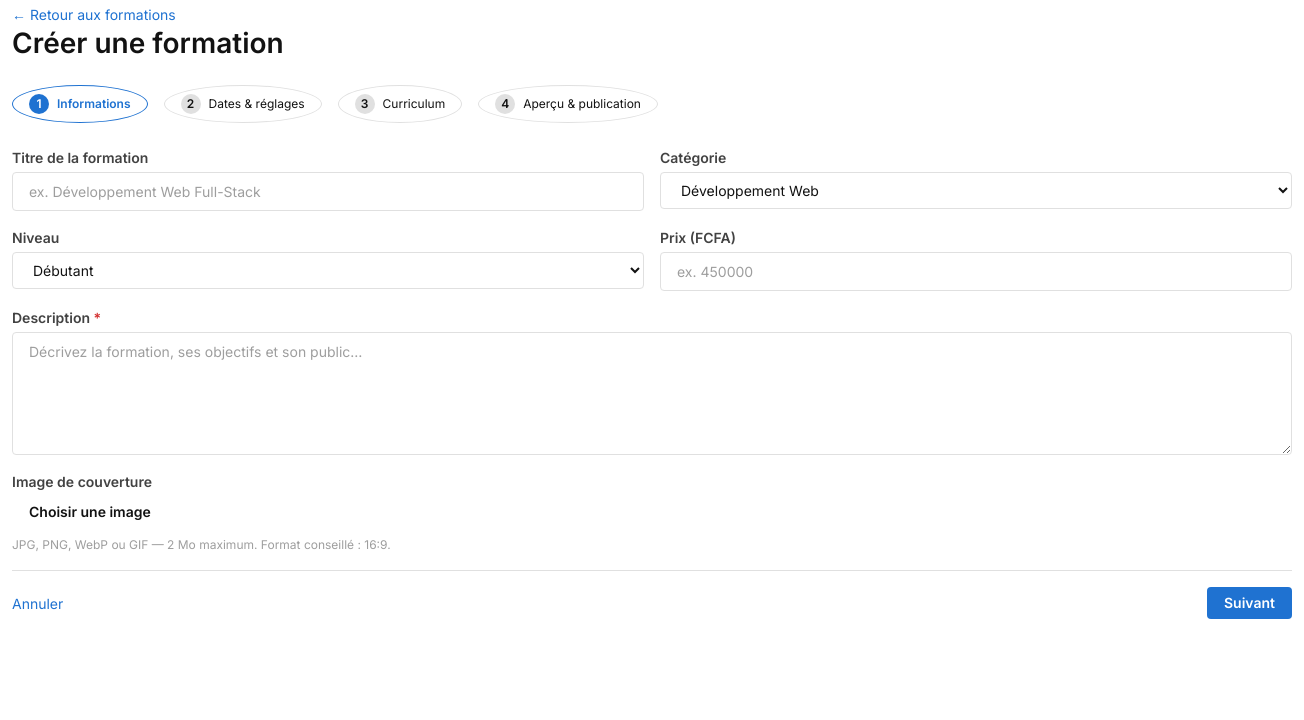
FormationFormComponent › should block step 1 and show required errors when fields are empty
Click the button "Suivant": (1250, 603) [1207,587,1292,619]
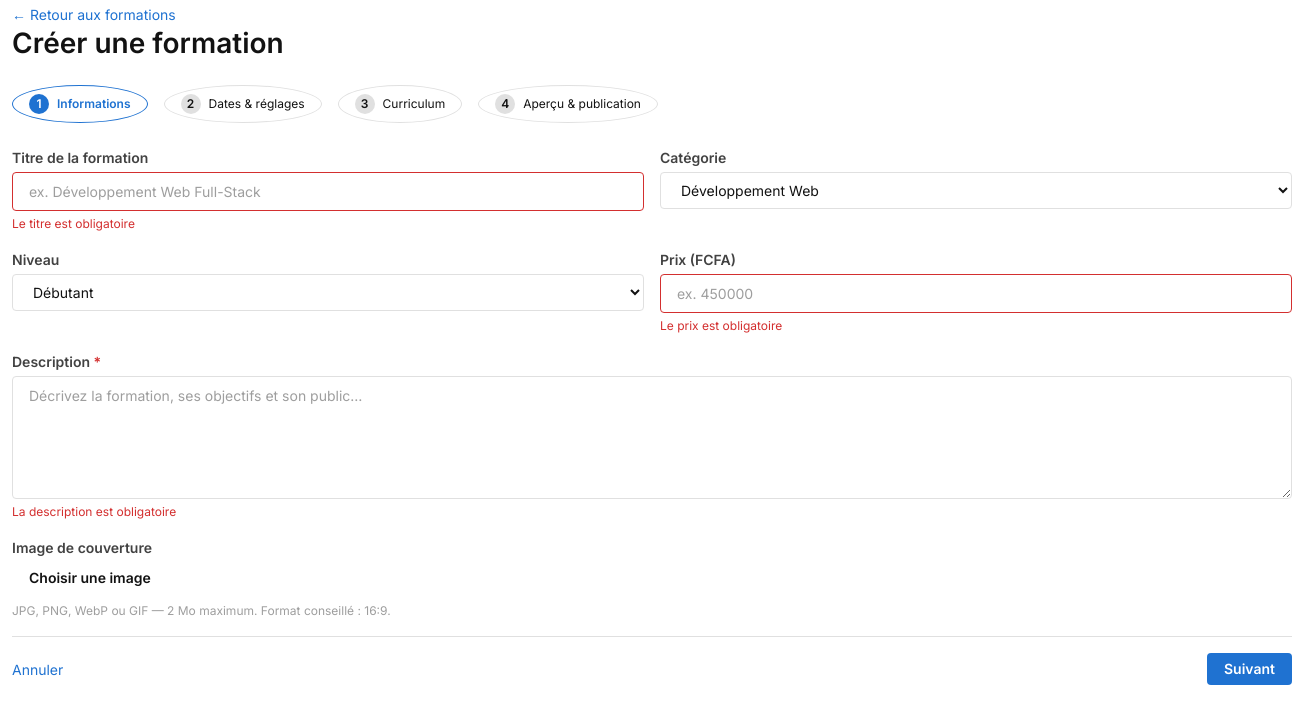
Result: the text "Le titre est obligatoire" is shown at [12,216,135,231]
Result: the text "La description est obligatoire" is shown at [12,504,176,519]
